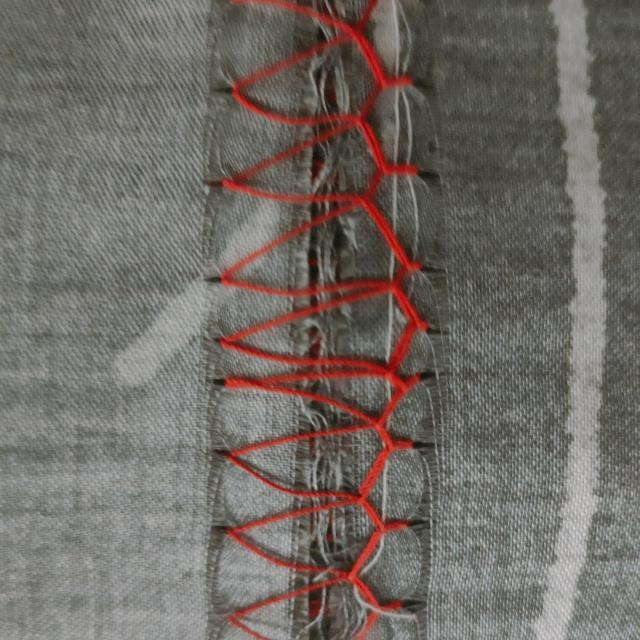gray stitch: (210, 3, 432, 640)
